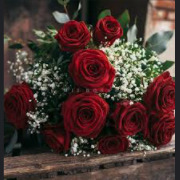RedRose: (59, 92, 107, 137), (68, 51, 116, 92), (144, 70, 175, 114), (5, 82, 36, 126), (55, 19, 92, 52), (115, 101, 150, 134), (144, 110, 175, 147), (94, 16, 125, 48)
